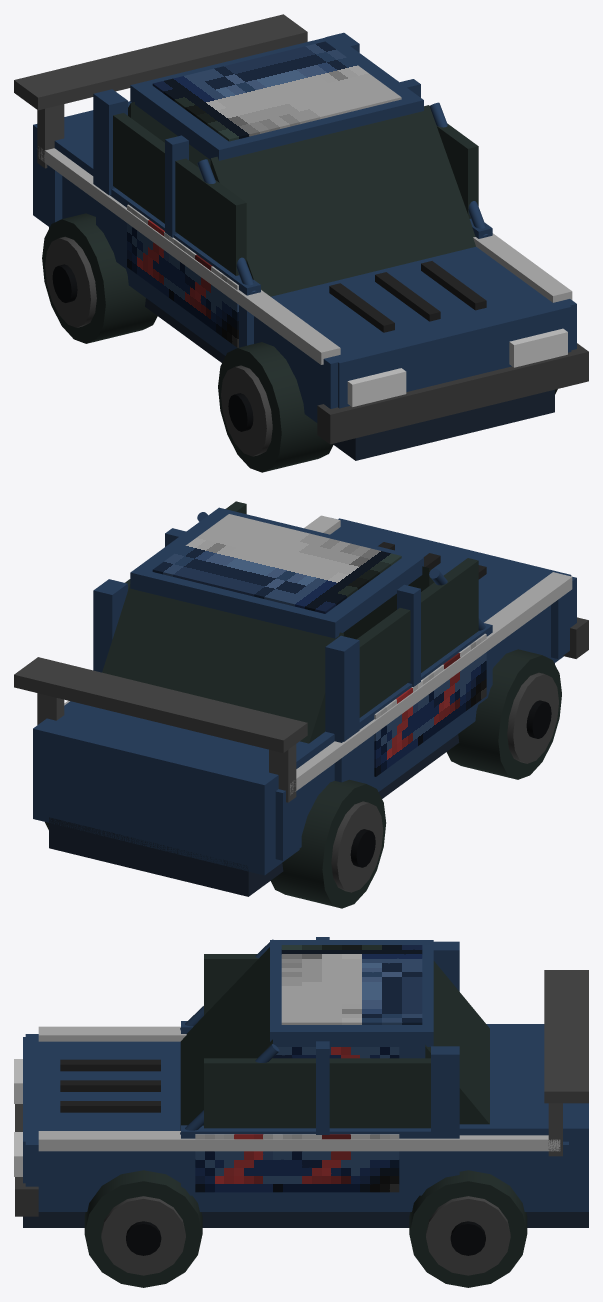
File: CMU3DAU14propstockcarVehicleFinalCloud.glb
3 renders of one model, top to bottom at view 1: azimuth 30°, elevation 25°; view 2: azimuth 150°, elevation 25°; view 3: azimuth 270°, elevation 25°, orthographic. The views are drawn at different scales.
Visible parts, largest first — view 1: front sloped glazing, front long hood, original race roof stripe, rear spoiler wing, side dark glazing -1, front bumper, coupe roof, tire 0 -1, tire 1 -1, long narrow white livery stripe -1, original red racing number -1, stockcar chassis (+18 smaller); view 2: rear trunk, rear sloped glazing, original race roof stripe, rear spoiler wing, low coupe floor, coupe roof, side dark glazing -1, stockcar chassis, front long hood, tire 1 -1, tire 0 -1, original red racing number -1 (+14 smaller); view 3: side dark glazing 1, front long hood, original race roof stripe, rear trunk, original red racing number 1, long narrow white livery stripe 1, front sloped glazing, coupe roof, rear spoiler wing, tire 0 1, tire 1 1, low coupe floor (+18 smaller).
Part boxes in pixels (x1=…): front sloped glazing: x1=210, y1=105, x2=475, y2=296; front long hood: x1=254, y1=247, x2=571, y2=408; original race roof stripe: x1=152, y1=41, x2=401, y2=141; rear spoiler wing: x1=14, y1=14, x2=307, y2=110; side dark glazing -1: x1=113, y1=113, x2=246, y2=275; front bumper: x1=317, y1=343, x2=588, y2=444; coupe roof: x1=130, y1=35, x2=423, y2=160; tire 0 -1: x1=218, y1=342, x2=333, y2=472; tire 1 -1: x1=42, y1=213, x2=157, y2=343; long narrow white livery stripe -1: x1=38, y1=146, x2=340, y2=364; original red racing number -1: x1=127, y1=204, x2=238, y2=347; stockcar chassis: x1=49, y1=227, x2=554, y2=460; rear trunk: x1=33, y1=701, x2=334, y2=851; rear sloped glazing: x1=102, y1=584, x2=343, y2=743; original race roof stripe: x1=152, y1=514, x2=401, y2=613; rear spoiler wing: x1=14, y1=657, x2=307, y2=752; low coupe floor: x1=33, y1=635, x2=563, y2=875; coupe roof: x1=130, y1=507, x2=423, y2=638; side dark glazing -1: x1=357, y1=558, x2=478, y2=717; stockcar chassis: x1=49, y1=663, x2=554, y2=896; front long hood: x1=330, y1=518, x2=571, y2=668; tire 1 -1: x1=271, y1=779, x2=386, y2=908; tire 0 -1: x1=446, y1=649, x2=561, y2=779; original red racing number -1: x1=374, y1=633, x2=486, y2=776; side dark glazing 1: x1=204, y1=1058, x2=430, y2=1128; front long hood: x1=23, y1=1037, x2=180, y2=1188; original race roof stripe: x1=281, y1=945, x2=422, y2=1024; rear trunk: x1=459, y1=1024, x2=588, y2=1190; original red racing number 1: x1=195, y1=1134, x2=399, y2=1192; long narrow white livery stripe 1: x1=38, y1=1131, x2=560, y2=1151; front sloped glazing: x1=180, y1=947, x2=272, y2=1130; coupe roof: x1=270, y1=940, x2=433, y2=1046; rear spoiler wing: x1=544, y1=970, x2=588, y2=1103; tire 0 1: x1=84, y1=1170, x2=202, y2=1287; tire 1 1: x1=409, y1=1170, x2=527, y2=1287; low coupe floor: x1=38, y1=1183, x2=588, y2=1211.
Size of the model in its own units: 1.13 by 0.925 by 2.
14 materials, 2 textured.
